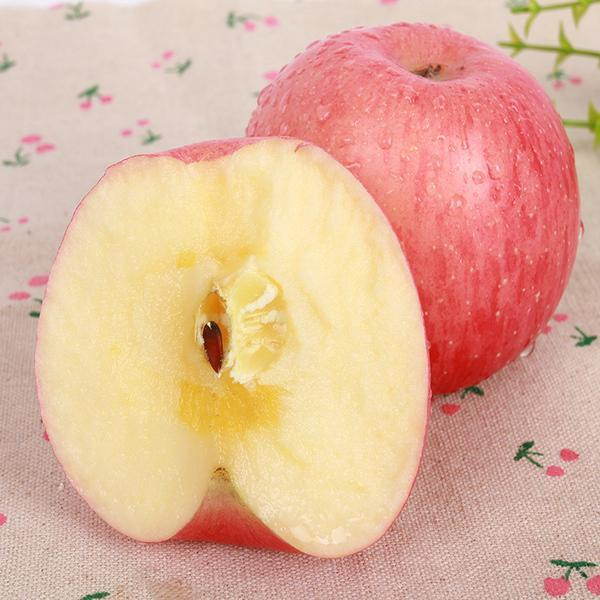apple: (240, 14, 576, 387)
